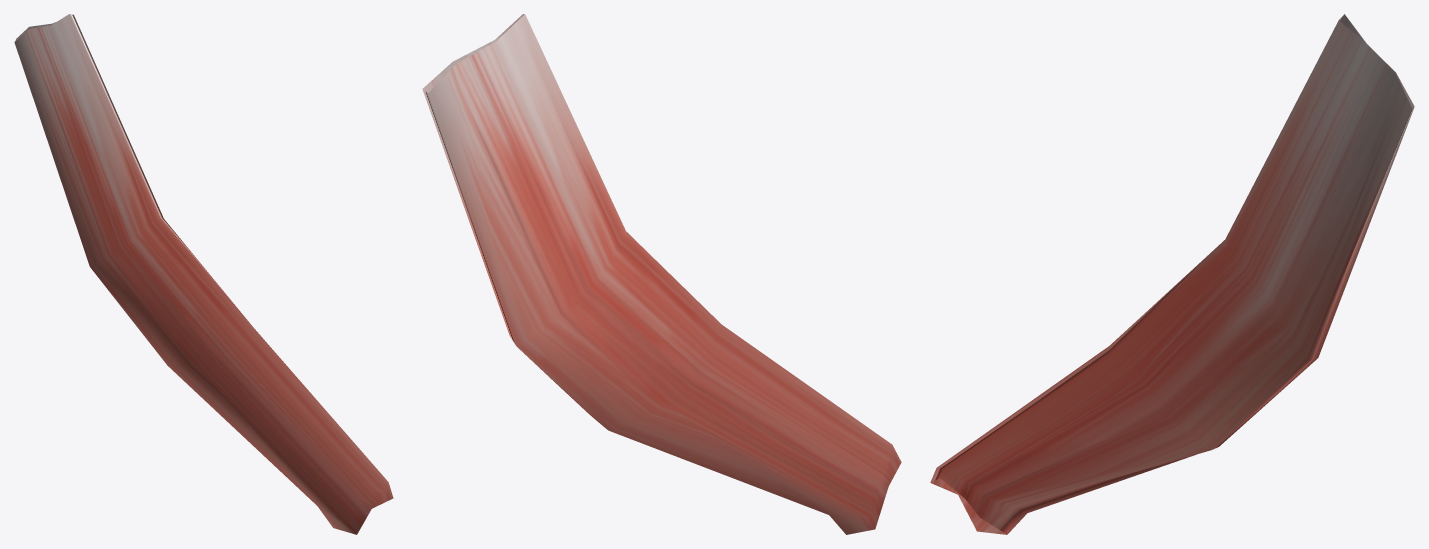
The model's file is Obliqus_Capitis_Superior_Muscle_Right.obj.
3 views of the same model, side by side, from view 1: azimuth 90°, elevation 25°; view 2: azimuth 150°, elevation 25°; view 3: azimuth 270°, elevation 25° (orthographic). The views are drawn at different scales.
Visible parts, largest first — view 1: Thyrohyoid_Muscle_Right:Thyrohyoid_Muscle_Right_Mesh Thyrohyoid_; view 2: Thyrohyoid_Muscle_Right:Thyrohyoid_Muscle_Right_Mesh Thyrohyoid_; view 3: Thyrohyoid_Muscle_Right:Thyrohyoid_Muscle_Right_Mesh Thyrohyoid_.
Boxes of the visible parts, x1,y1,x2,y2 form: Thyrohyoid_Muscle_Right:Thyrohyoid_Muscle_Right_Mesh Thyrohyoid_: [14, 14, 393, 534]; Thyrohyoid_Muscle_Right:Thyrohyoid_Muscle_Right_Mesh Thyrohyoid_: [422, 14, 901, 534]; Thyrohyoid_Muscle_Right:Thyrohyoid_Muscle_Right_Mesh Thyrohyoid_: [930, 14, 1414, 534].
Bounding box in the file's own units: 0.2046 × 0.5258 × 0.3902.
